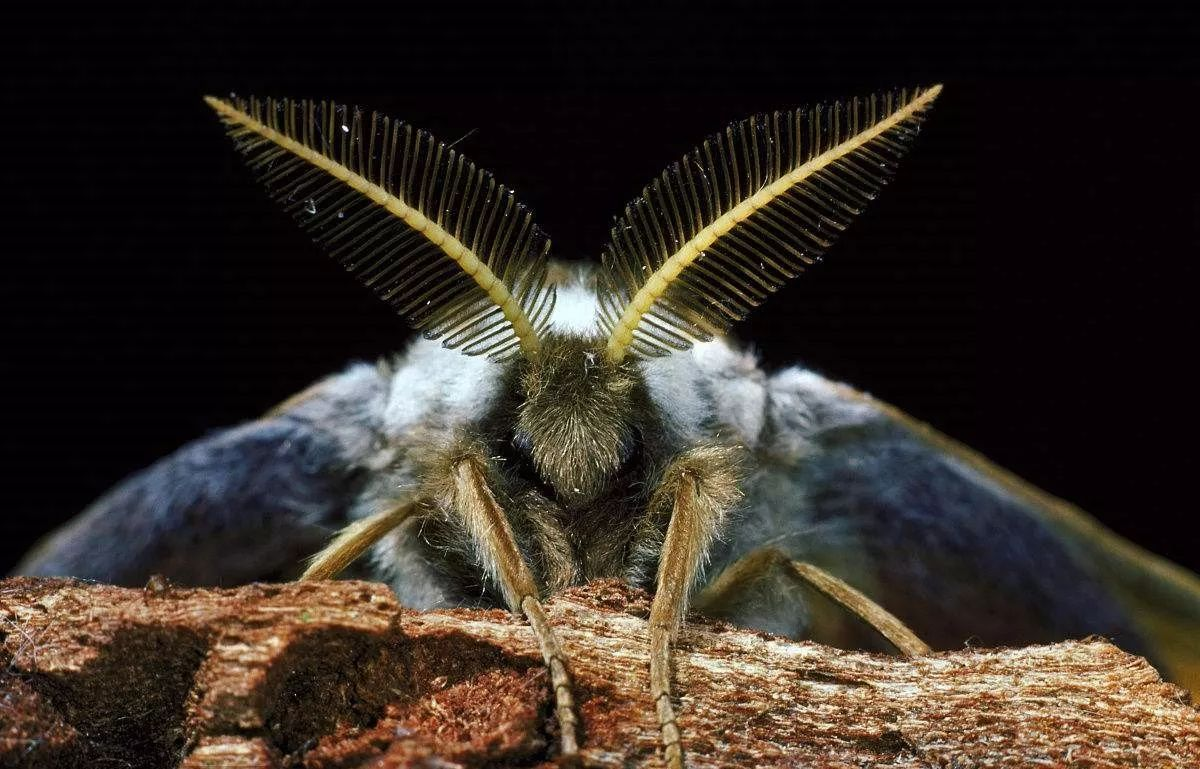feie: (138, 98, 1029, 704)
